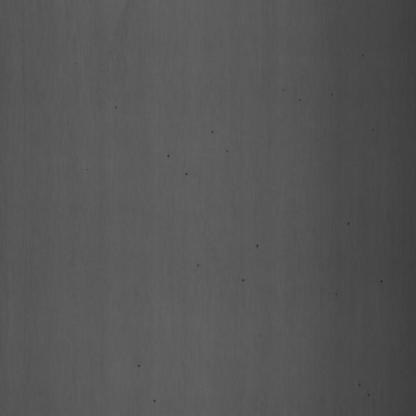inclusion: (154, 136, 174, 166), (180, 161, 194, 190), (190, 253, 206, 275), (375, 269, 387, 295), (203, 118, 218, 137), (234, 271, 248, 290), (253, 235, 266, 254), (343, 216, 354, 236), (136, 355, 146, 375), (147, 396, 159, 411)
